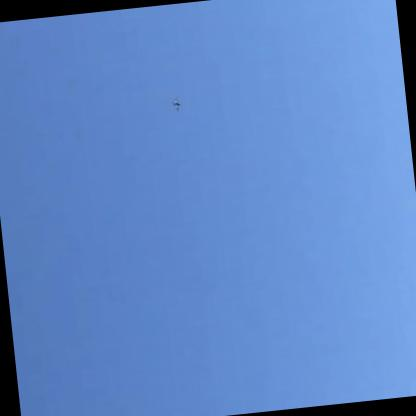plane: (172, 96, 183, 113)
